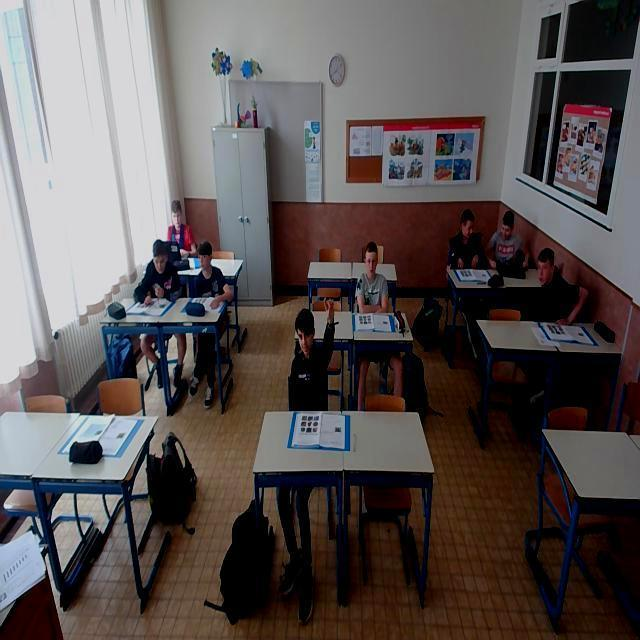Looking away: (141, 237, 175, 276), (192, 242, 218, 278), (494, 208, 520, 244), (460, 207, 479, 239)
Looking forward: (530, 246, 564, 292), (363, 241, 384, 285), (167, 197, 191, 231)
Raising hand: (284, 279, 340, 428)
